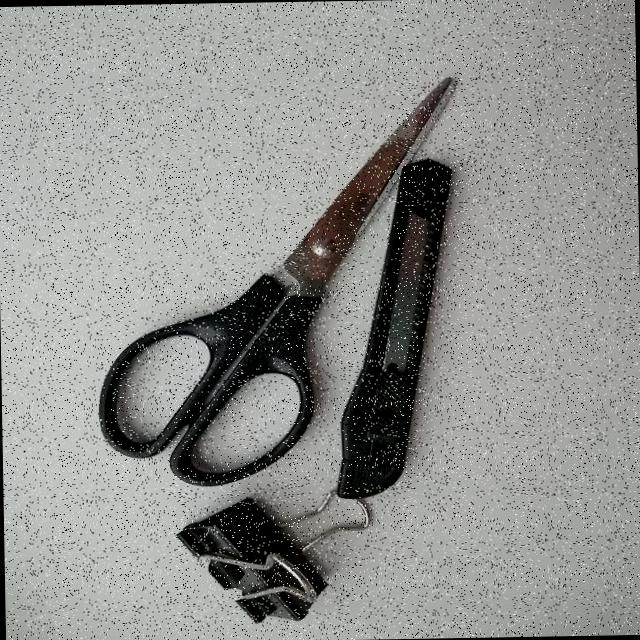scissors: (77, 71, 484, 494)
